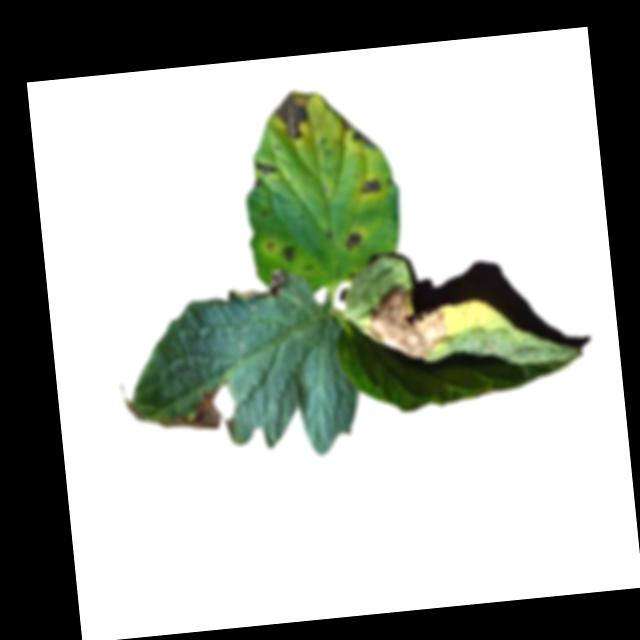Early_blight: (116, 370, 239, 453), (363, 277, 452, 366), (272, 83, 320, 142), (239, 270, 291, 306), (252, 156, 279, 176), (351, 129, 376, 148), (360, 176, 383, 194), (344, 230, 362, 252), (281, 240, 295, 262)
